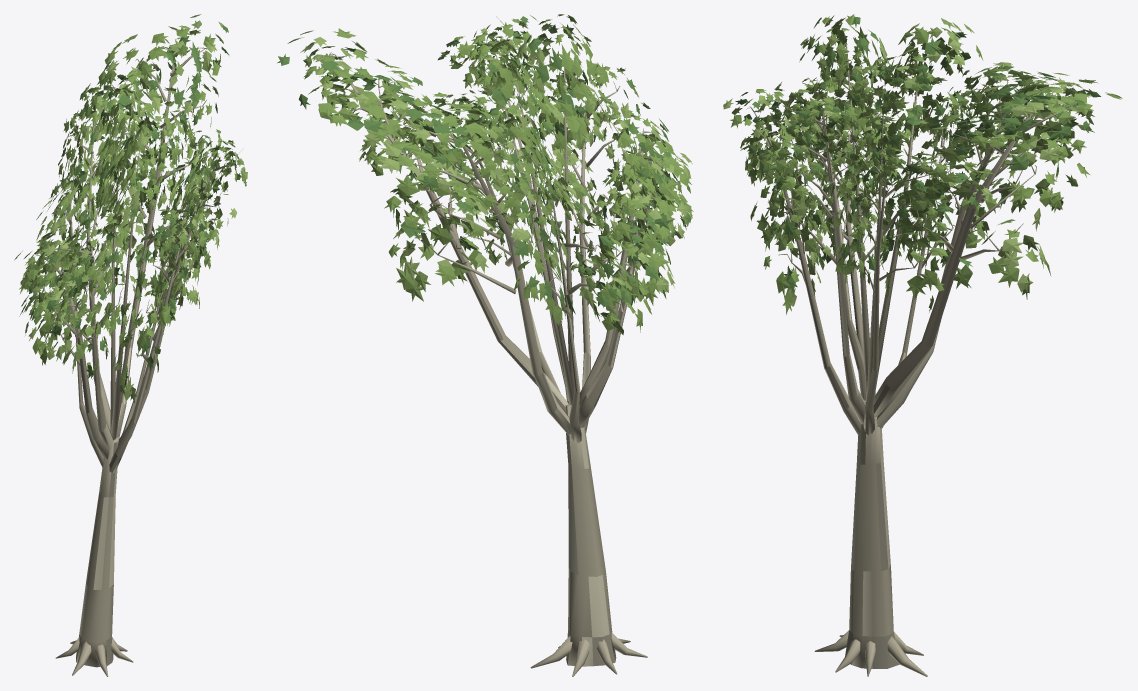
3 renders of one model, left to right at view 1: azimuth 30°, elevation 25°; view 2: azimuth 150°, elevation 25°; view 3: azimuth 270°, elevation 25°, orthographic. The views are drawn at different scales.
Visible parts, largest first — view 1: tree_plane_a_PlaneLeaf, tree_plane_a_PlaneBark, tree_plane_a_PlaneLeafLight, tree_plane_a_PlaneLeafDark, tree_plane_a_PlaneBarkPale, tree_plane_a_PlaneBarkBrown; view 2: tree_plane_a_PlaneLeaf, tree_plane_a_PlaneBark, tree_plane_a_PlaneLeafLight, tree_plane_a_PlaneLeafDark, tree_plane_a_PlaneBarkPale, tree_plane_a_PlaneBarkBrown; view 3: tree_plane_a_PlaneLeaf, tree_plane_a_PlaneBark, tree_plane_a_PlaneLeafLight, tree_plane_a_PlaneLeafDark, tree_plane_a_PlaneBarkBrown, tree_plane_a_PlaneBarkPale.
Part boxes in pixels (<box>): tree_plane_a_PlaneLeaf: <box>19,26,247,403</box>; tree_plane_a_PlaneBark: <box>35,47,243,676</box>; tree_plane_a_PlaneLeafLight: <box>14,20,237,400</box>; tree_plane_a_PlaneLeafDark: <box>19,14,246,384</box>; tree_plane_a_PlaneBarkPale: <box>66,64,181,637</box>; tree_plane_a_PlaneBarkBrown: <box>70,64,187,665</box>; tree_plane_a_PlaneLeaf: <box>303,14,693,334</box>; tree_plane_a_PlaneBark: <box>329,16,665,676</box>; tree_plane_a_PlaneLeafLight: <box>287,23,692,316</box>; tree_plane_a_PlaneLeafDark: <box>277,15,691,317</box>; tree_plane_a_PlaneBarkPale: <box>351,55,647,666</box>; tree_plane_a_PlaneBarkBrown: <box>428,132,646,666</box>; tree_plane_a_PlaneLeaf: <box>730,14,1122,314</box>; tree_plane_a_PlaneBark: <box>746,44,1078,676</box>; tree_plane_a_PlaneLeafLight: <box>723,15,1094,306</box>; tree_plane_a_PlaneLeafDark: <box>731,17,1100,293</box>; tree_plane_a_PlaneBarkBrown: <box>777,113,1026,668</box>; tree_plane_a_PlaneBarkPale: <box>771,113,1032,636</box>.
Bounding box in the file's own units: 8.39 × 16.01 × 8.53.
